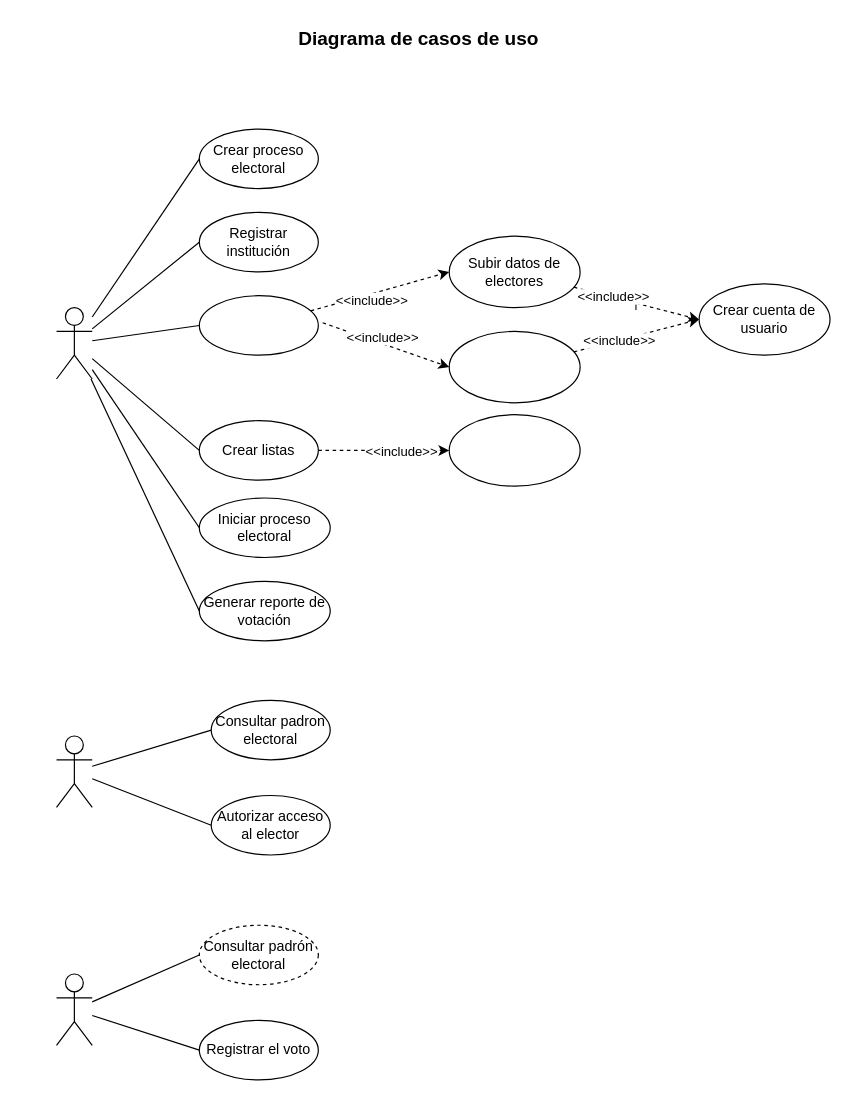
Some shapes in this 851 by 1101 pixel diagram are drawn without their labels. Each missing label, with the centre of its shape:
Administrador: point 73,342
Agregar juntas: point 258,325
Asignar candidatos: point 514,450
Asignar miembros de Junta: point 514,366
Elector: point 73,1009
Presidente Junta: point 73,771
